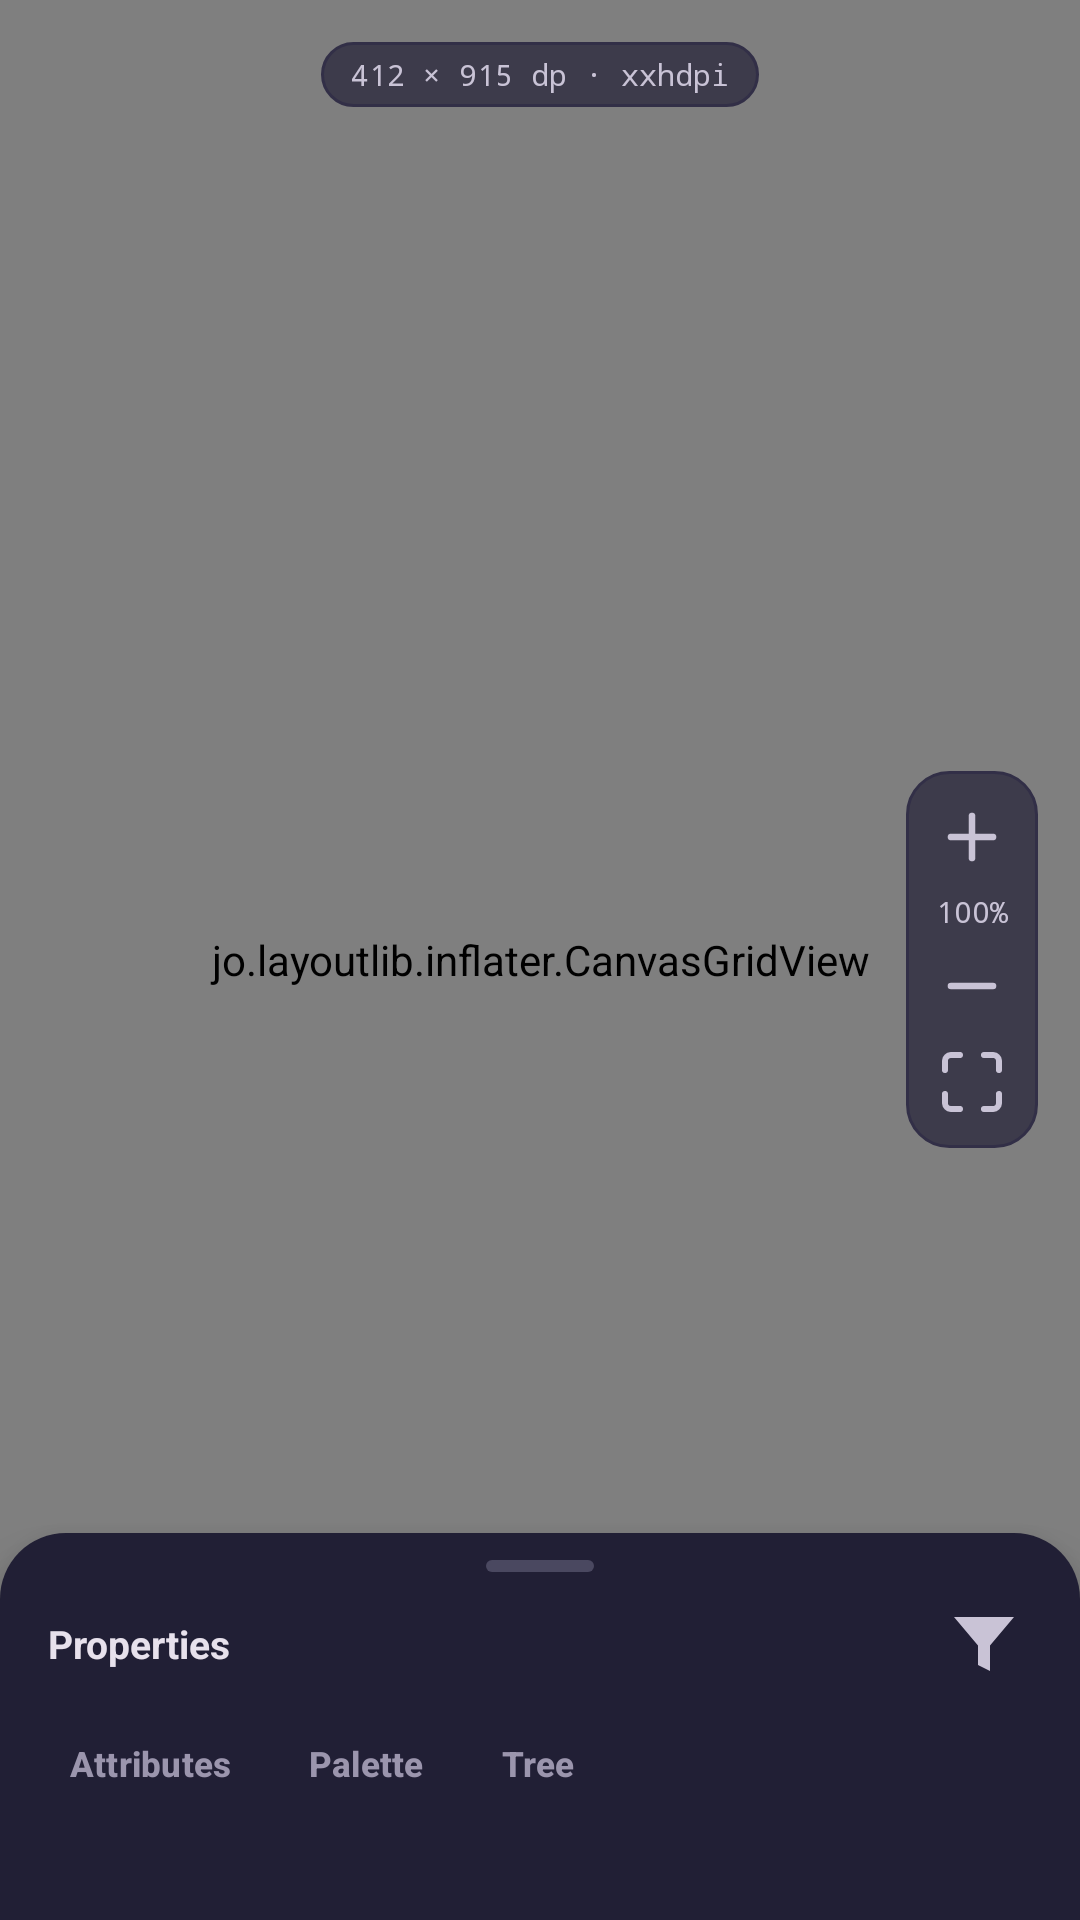

Icon click points for this 1080w x 1920h phone screenshot, format [x,y]:
Filtrer: [984,1644]
zoom fit: [972,1082]
zoom in: [972,837]
